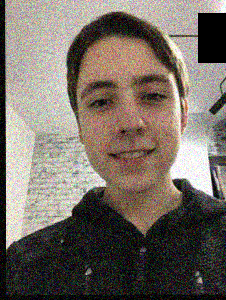without_mask: (73, 72, 184, 194)
